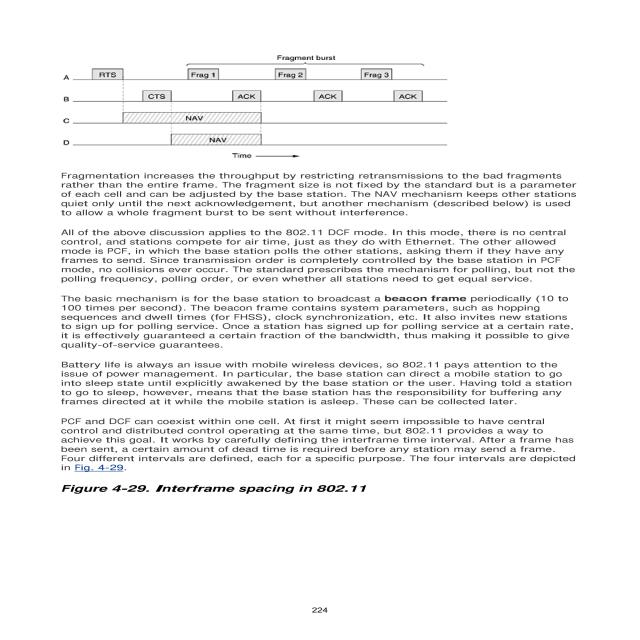diagram: (56, 42, 463, 167)
